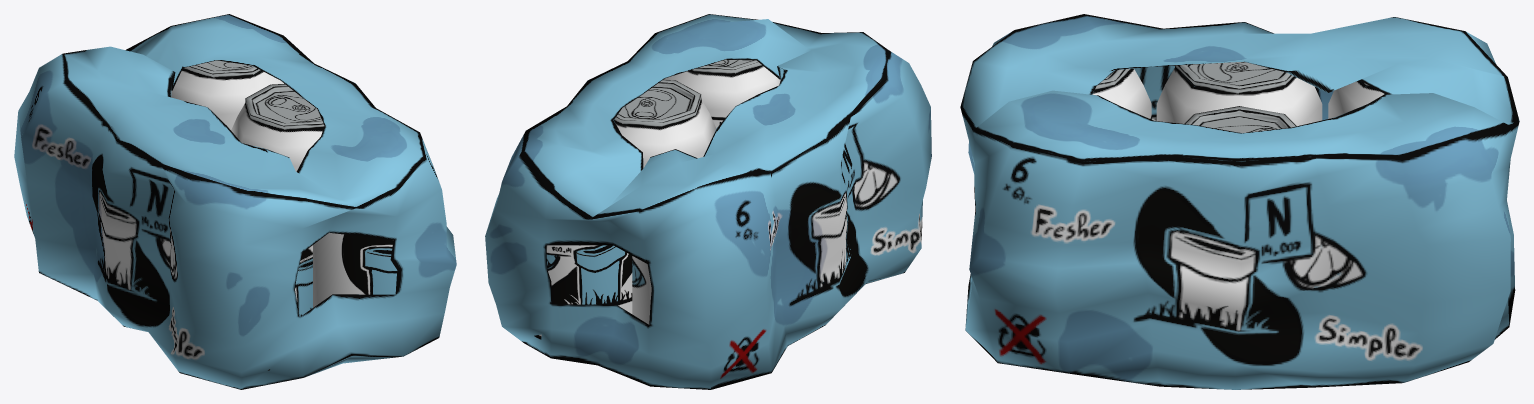
File: PackCanettes2 1.fbx
3 renders of one model, left to right at view 1: azimuth 30°, elevation 25°; view 2: azimuth 150°, elevation 25°; view 3: azimuth 270°, elevation 25°, orthographic. The views are drawn at different scales.
Parts seen in each view (by area): view 1: PackCannettes; view 2: PackCannettes; view 3: PackCannettes.
Boxes of the visible parts, box(x1,y1,x2,y2) form: PackCannettes: box(14, 14, 456, 389); PackCannettes: box(485, 14, 931, 389); PackCannettes: box(960, 14, 1519, 389).
Size of the model in its own units: 4.64 by 3.26 by 6.75.
